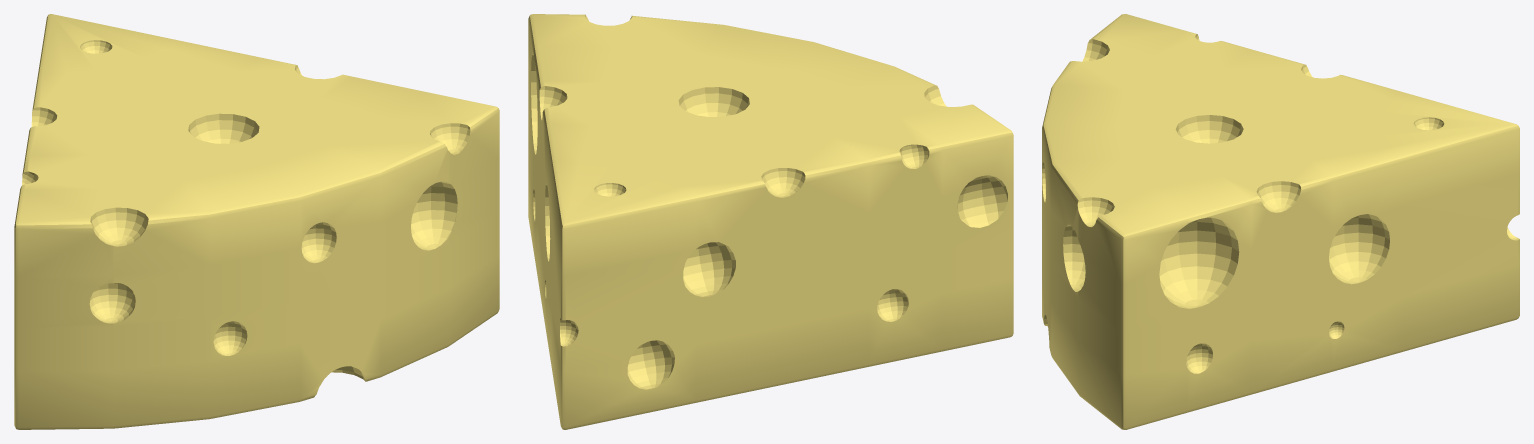
Rendered from cheese remastered .fbx.
3 renders of one model, left to right at view 1: azimuth 30°, elevation 25°; view 2: azimuth 150°, elevation 25°; view 3: azimuth 270°, elevation 25°, orthographic. The views are drawn at different scales.
Visible parts, largest first — view 1: Circle.001; view 2: Circle.001; view 3: Circle.001.
Part boxes in pixels (x1,y1,x2,y2): Circle.001: (14,14,499,429); Circle.001: (528,14,1013,429); Circle.001: (1042,14,1519,429).
Bounding box in the file's own units: 110 × 45.12 × 99.54.
